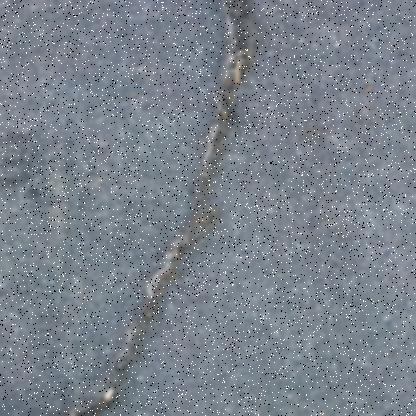Cracks: (21, 0, 262, 415)
